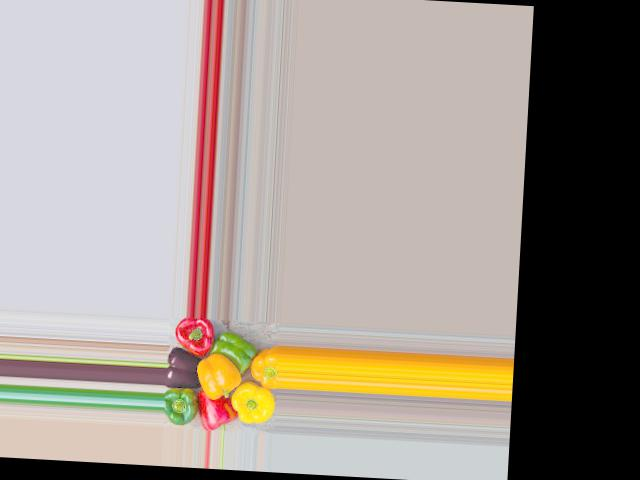bell_pepper: (240, 334, 279, 388)
